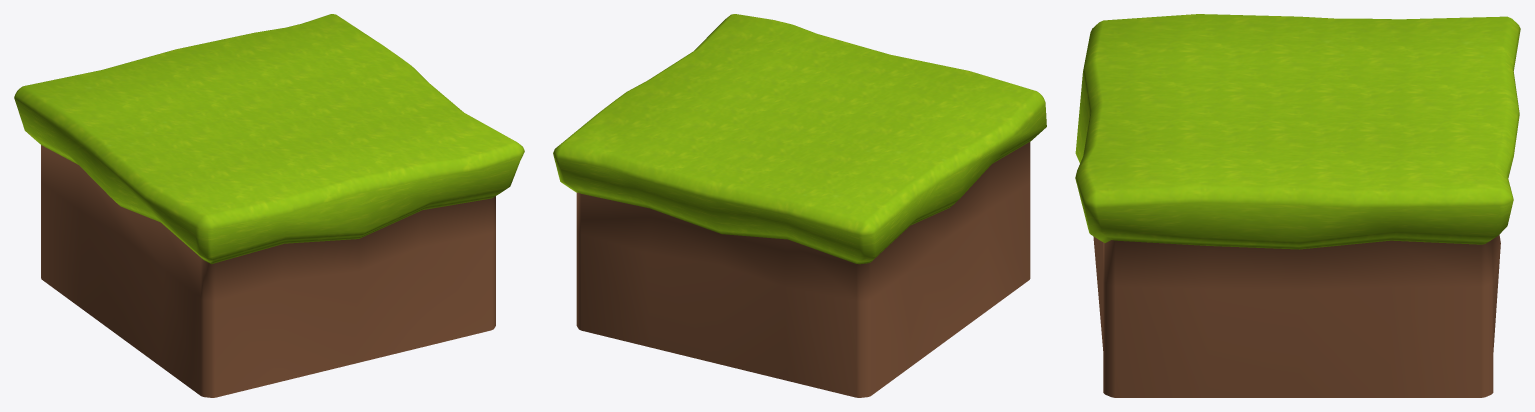
The model's file is Idland.obj.
3 renders of one model, left to right at view 1: azimuth 30°, elevation 25°; view 2: azimuth 150°, elevation 25°; view 3: azimuth 270°, elevation 25°, orthographic. The views are drawn at different scales.
Visible parts, largest first — view 1: Cube.013; view 2: Cube.013; view 3: Cube.013.
Boxes of the visible parts, x1,y1,x2,y2 form: Cube.013: (14,14,524,397); Cube.013: (553,14,1046,397); Cube.013: (1075,14,1520,397).
Size of the model in its own units: 5.15 by 2.73 by 5.17.
